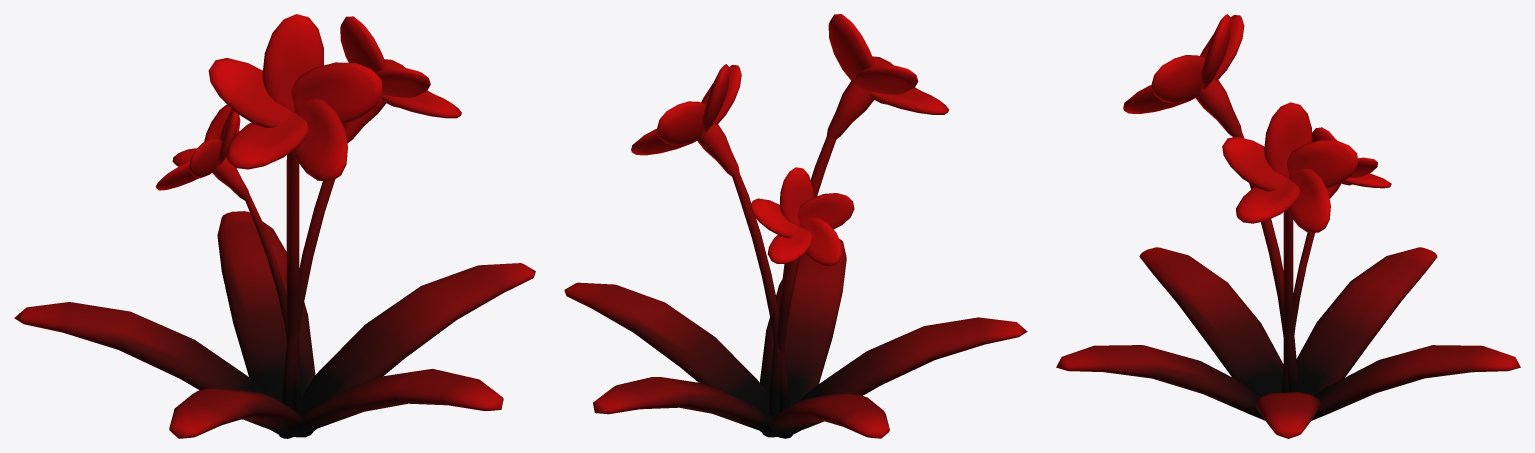
File: SM_Tiare.FBX
The picture shows the model from 3 angles, left to right: view 1: azimuth 30°, elevation 25°; view 2: azimuth 150°, elevation 25°; view 3: azimuth 270°, elevation 25°; orthographic projection. The views are drawn at different scales.
Visible parts, largest first — view 1: Object001; view 2: Object001; view 3: Object001.
Part boxes in pixels (<box>): Object001: <box>14,14,535,438</box>; Object001: <box>564,14,1027,438</box>; Object001: <box>1056,14,1520,438</box>.
Size of the model in its own units: 116 by 115 by 122.
